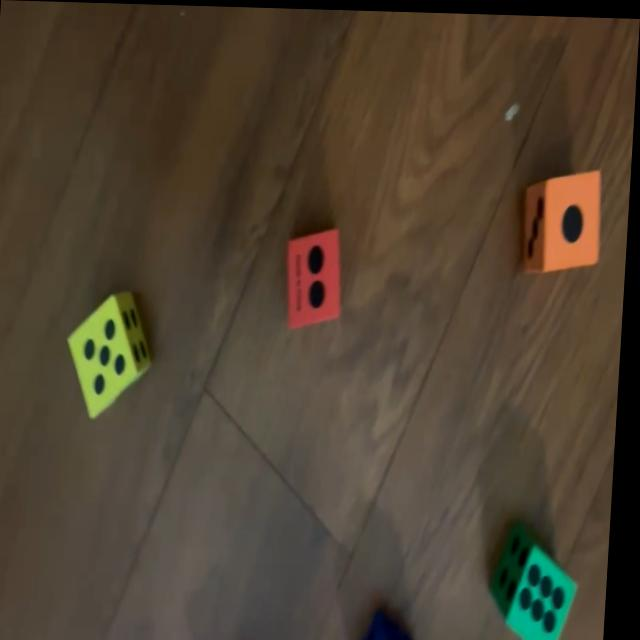cube: (494, 518, 586, 640), (285, 227, 348, 329), (370, 609, 417, 640)
